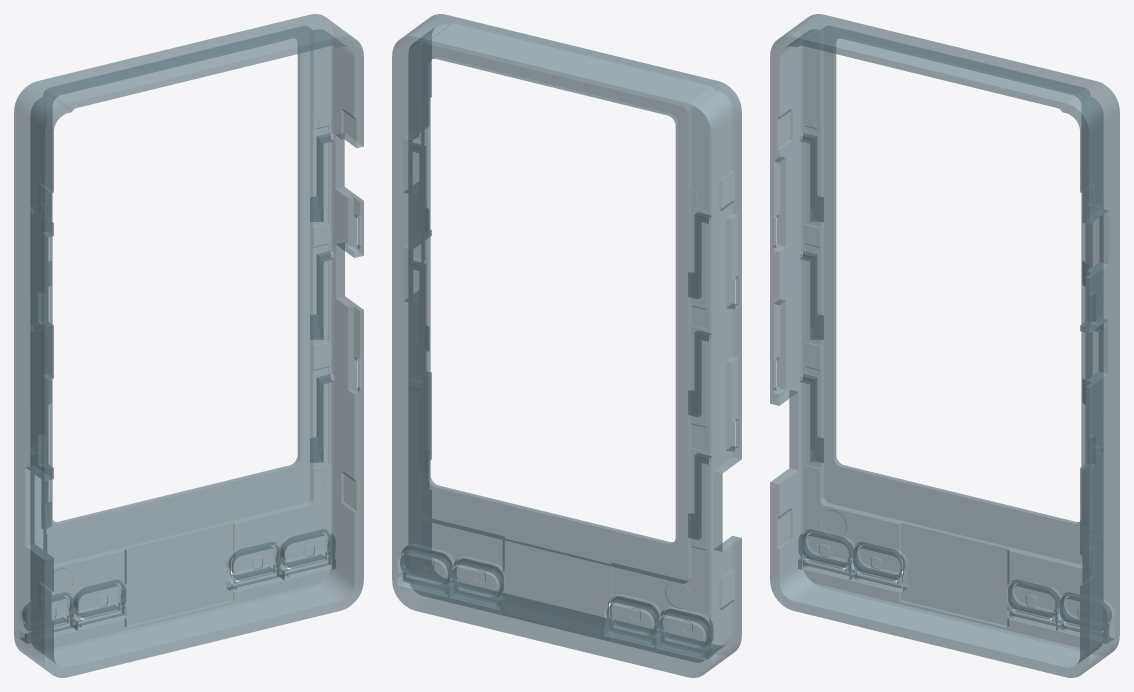
The model's file is front-chassis.glb.
The picture shows the model from 3 angles, left to right: view 1: azimuth 30°, elevation 25°; view 2: azimuth 150°, elevation 25°; view 3: azimuth 330°, elevation 25°; orthographic projection.
Visible parts, largest first — view 1: front-chassis; view 2: front-chassis; view 3: front-chassis.
Boxes of the visible parts, box(x1,y1,x2,y2) form: front-chassis: box(14, 14, 363, 677); front-chassis: box(392, 14, 741, 677); front-chassis: box(770, 14, 1119, 677).
Size of the model in its own units: 68 by 117 by 11.2.
